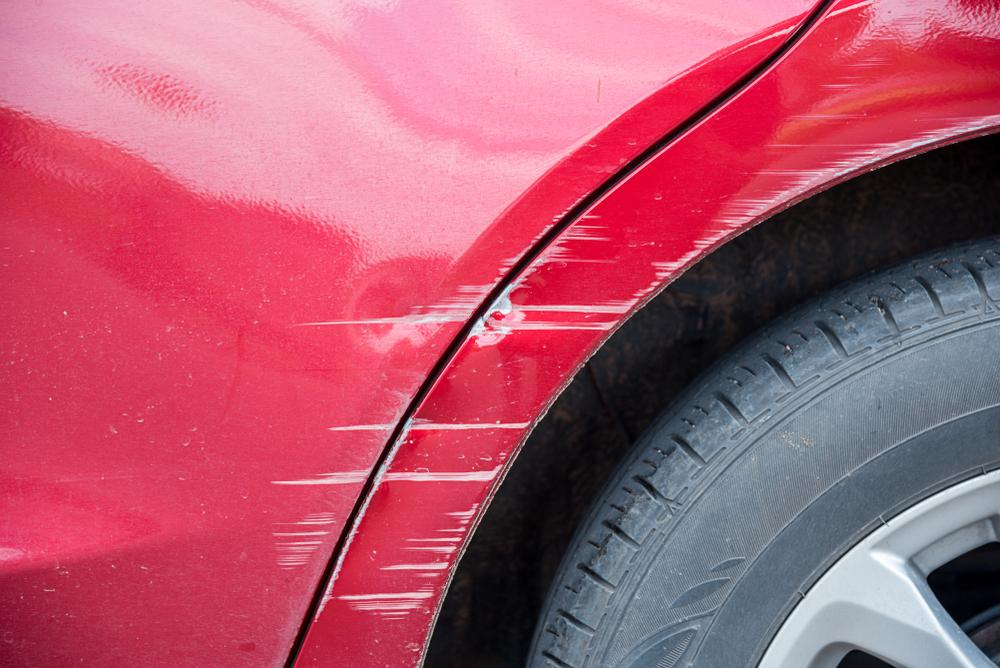dent: (352, 257, 456, 352)
scratch: (318, 59, 1000, 627), (264, 397, 402, 587), (448, 188, 588, 338)
